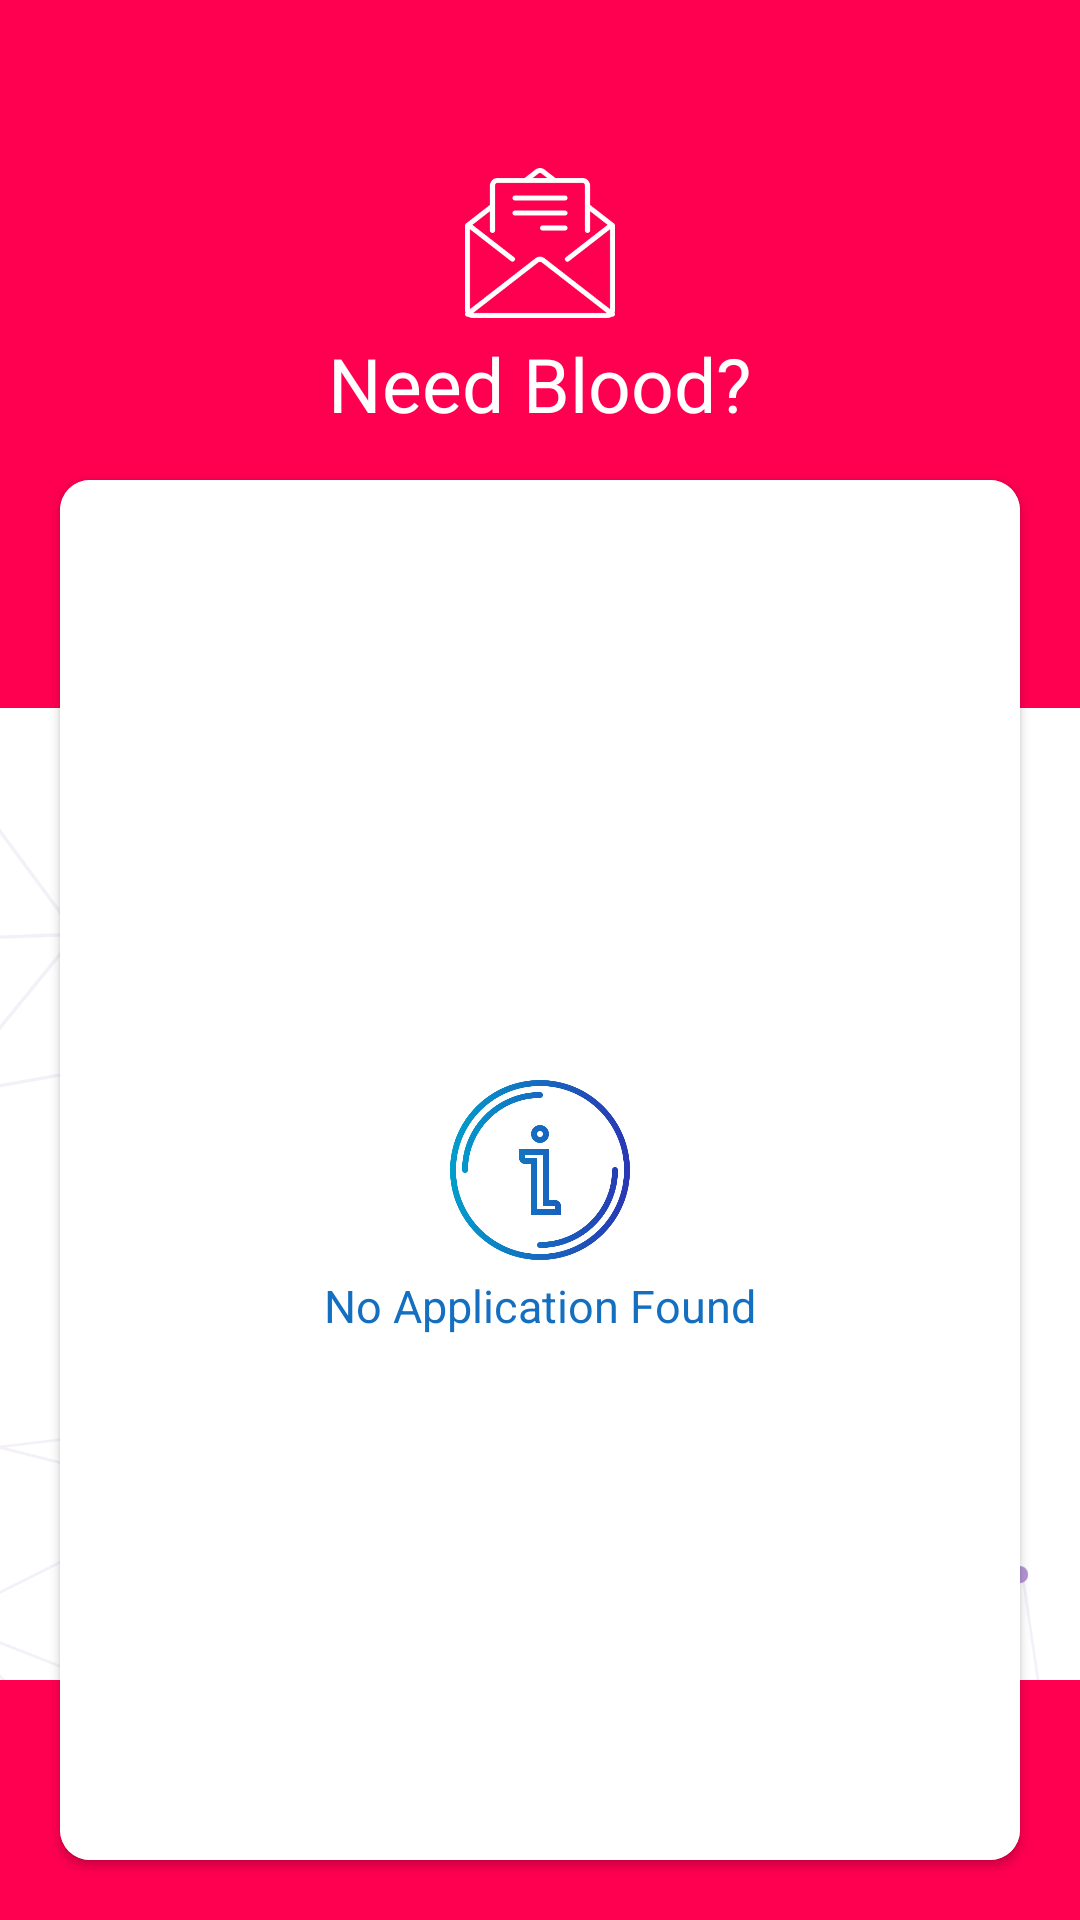

Named icons in this screenshot (1080x1920) and their centers, point (x, y):
info: point (540, 1170)
message: point (540, 243)
